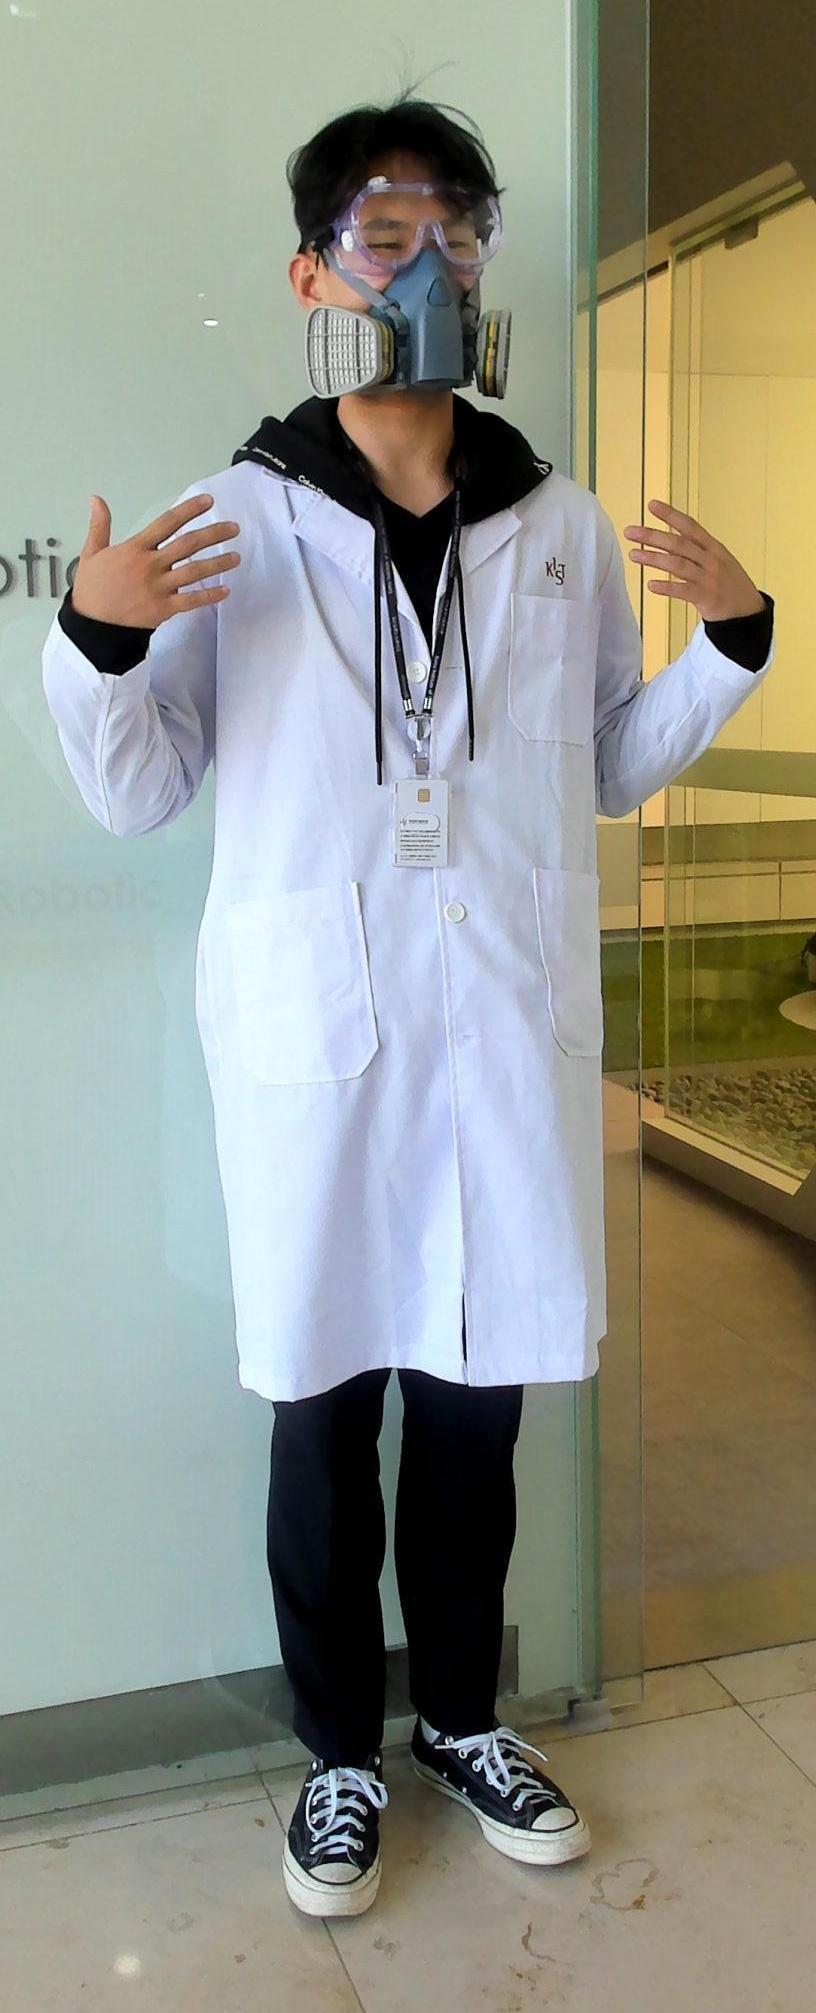lab_coat: (195, 490, 611, 1378)
